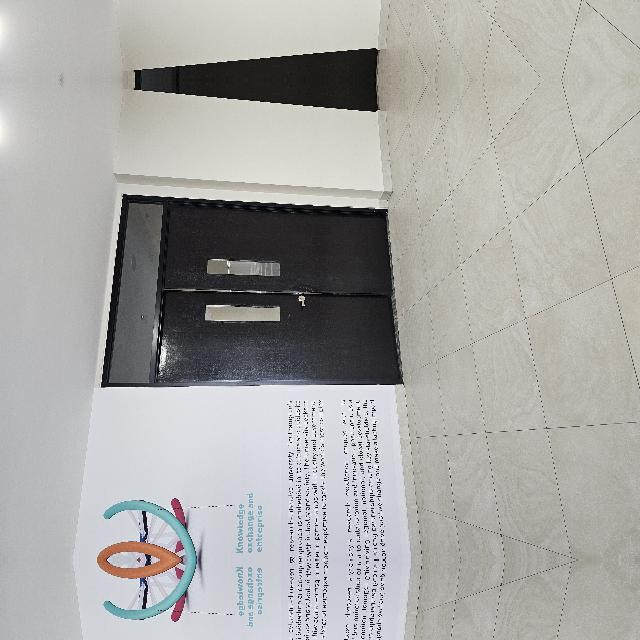door: (164, 226, 366, 484), (164, 636, 366, 640)
